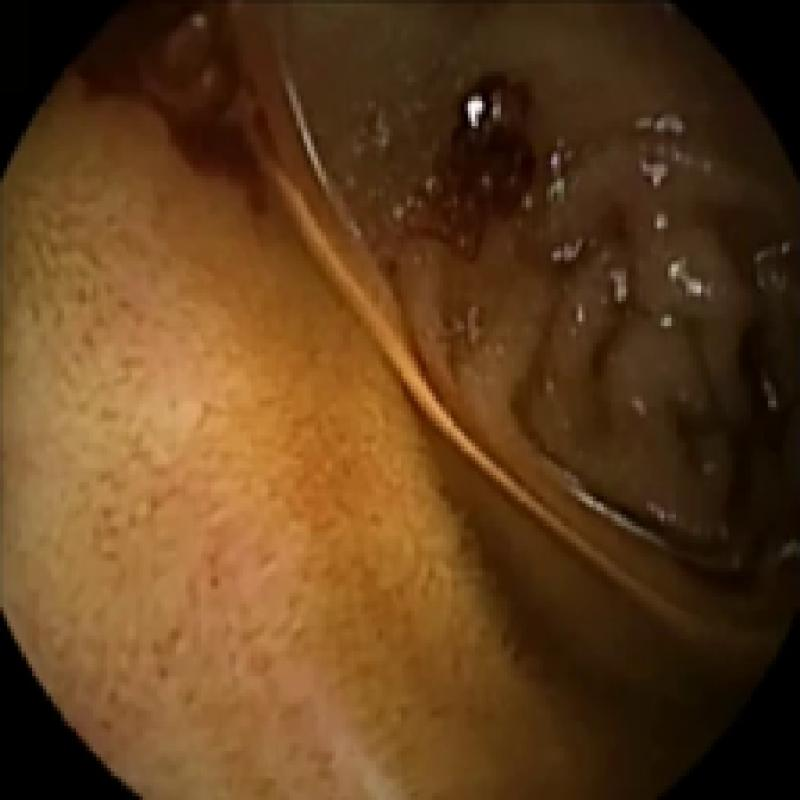bleeding: (71, 0, 285, 214), (675, 304, 798, 576), (415, 62, 535, 256)
